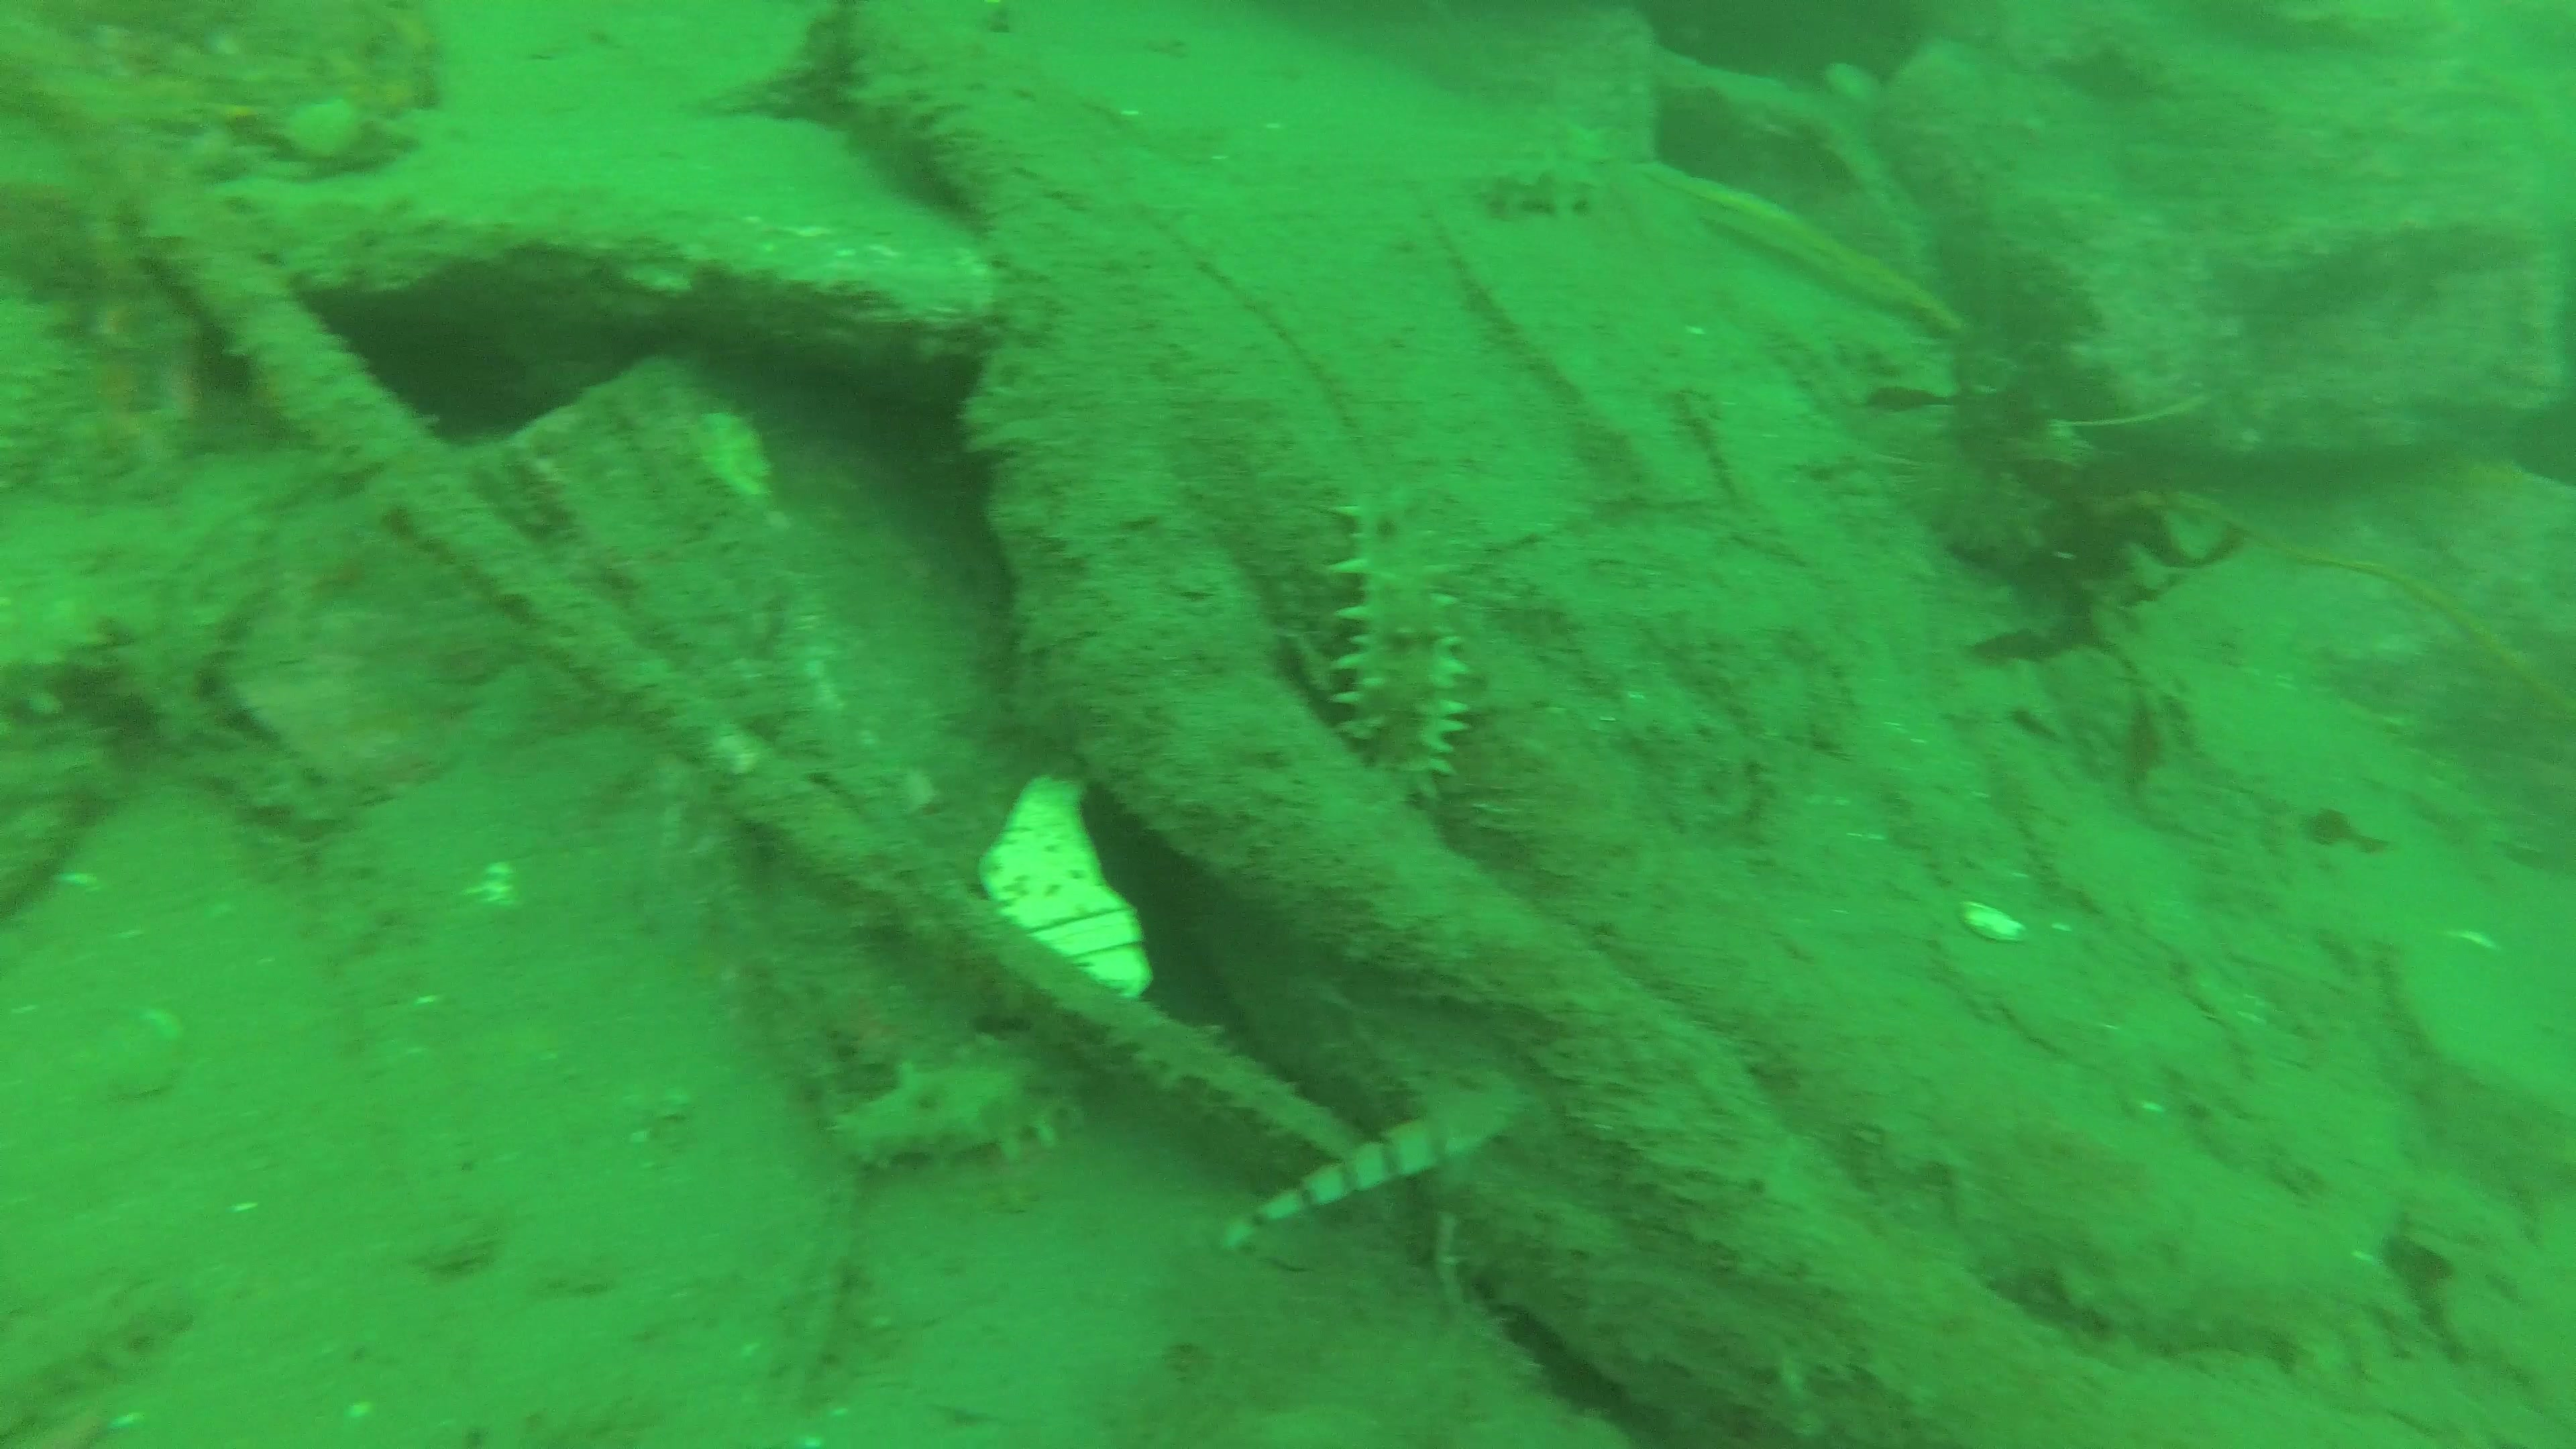holothurian: (1336, 488, 1467, 810), (835, 1021, 1104, 1177), (0, 1283, 196, 1431), (1477, 119, 1610, 225)
